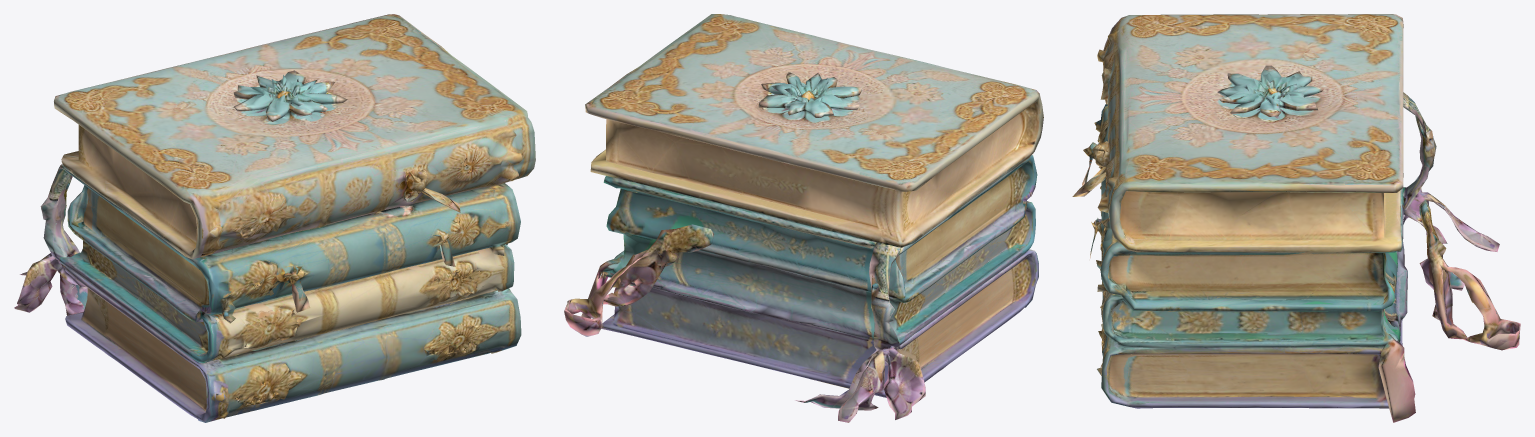
File: New Books.glb
The picture shows the model from 3 angles, left to right: view 1: azimuth 30°, elevation 25°; view 2: azimuth 150°, elevation 25°; view 3: azimuth 270°, elevation 25°; orthographic projection. The views are drawn at different scales.
Size of the model in its own units: 1.96 by 1.26 by 1.98.
1 material, 1 textured.
